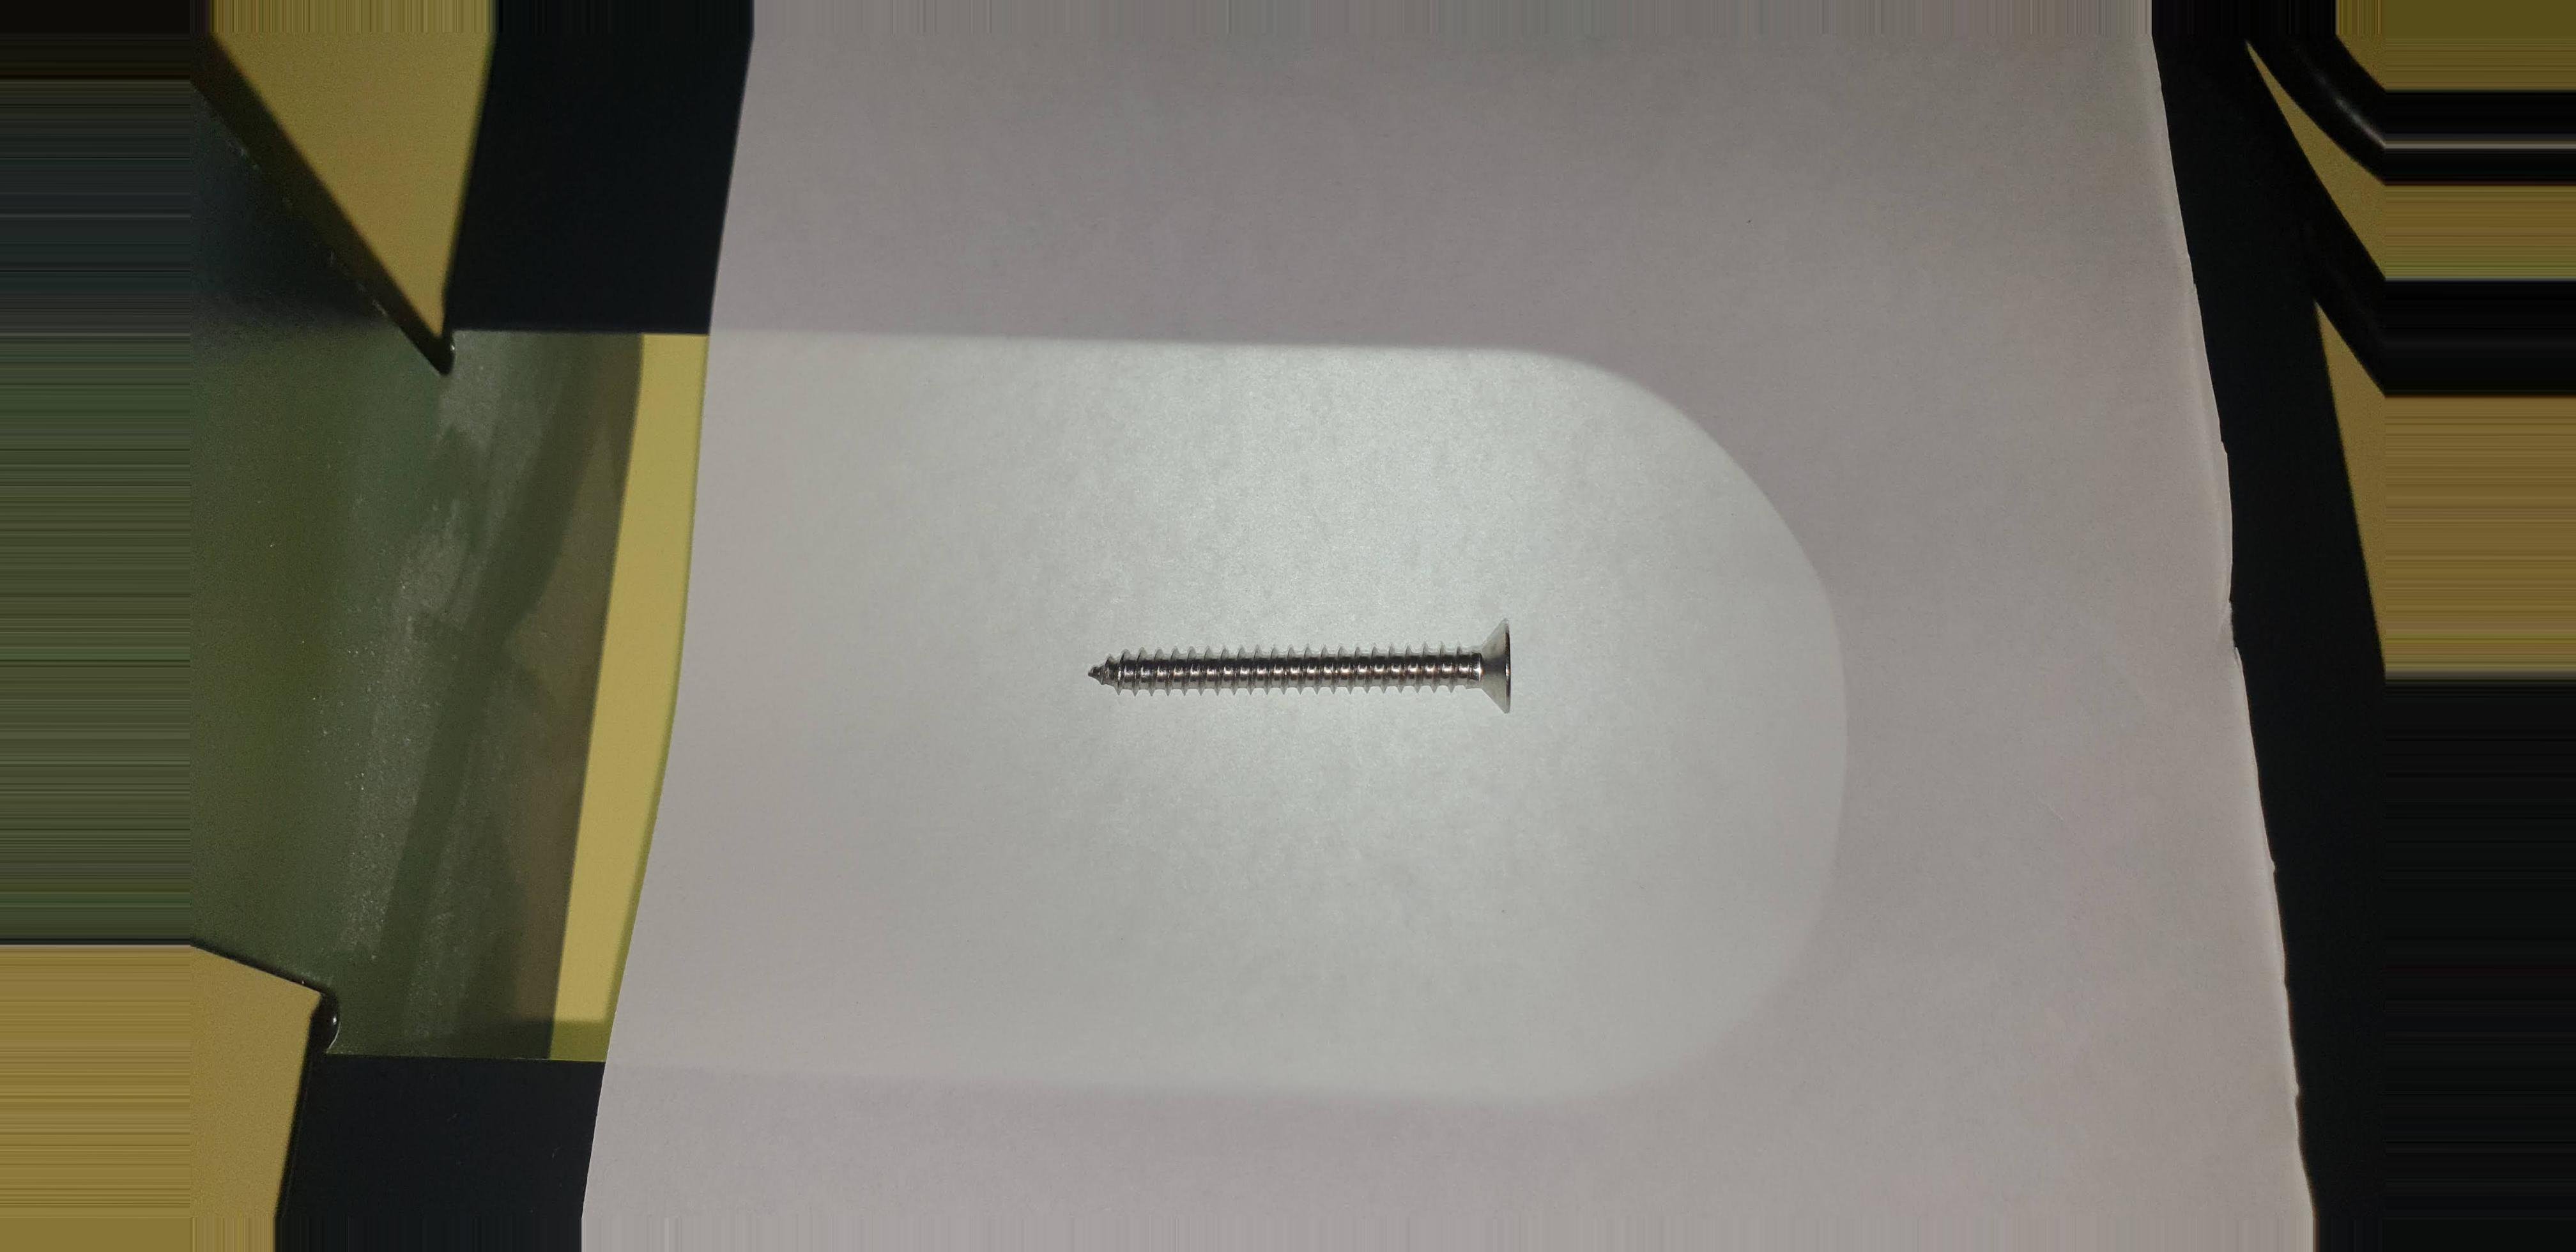fastener: (1028, 559, 1589, 776)
